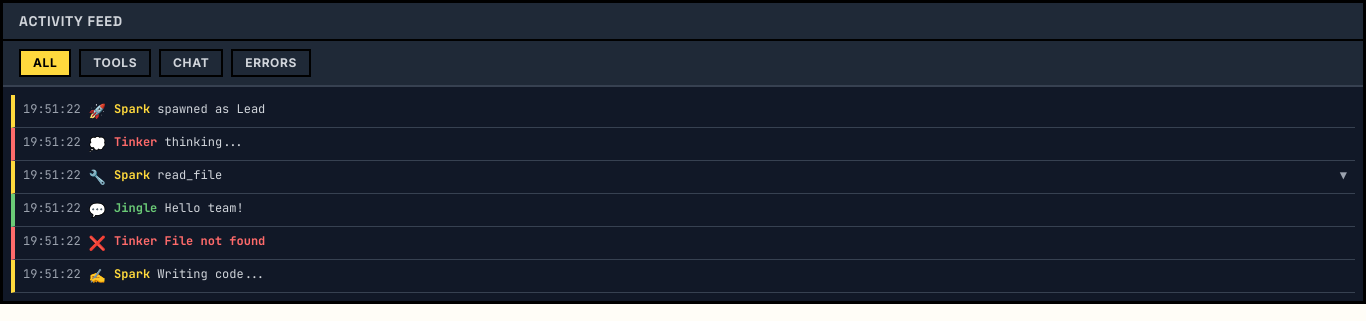
ActivityFeed › filters events when a filter is clicked
Check: the number of elements with test id "event-row" is 6, box [11,95,1355,128]; [11,128,1355,161]; [11,161,1355,194]; [11,194,1355,227]; [11,227,1355,260]; [11,260,1355,293]
Click the button with test id "filter-tools".
click(115, 63)  # box [79,49,151,77]
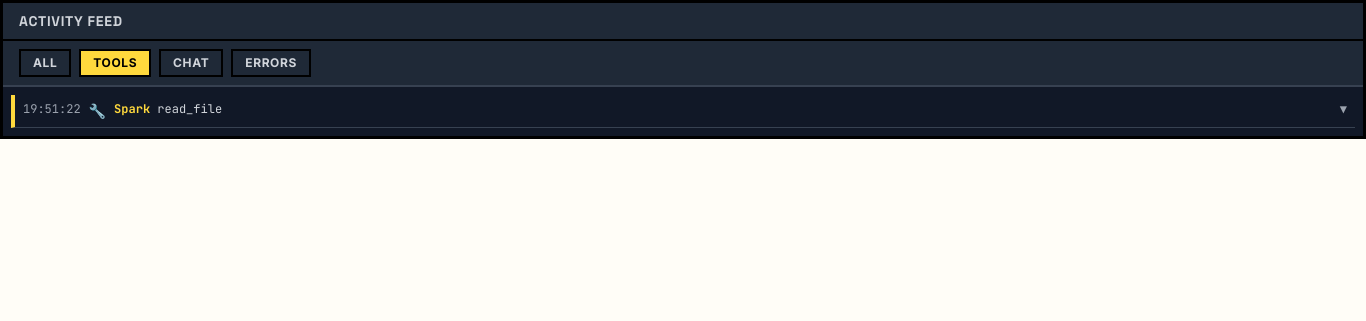
Check: the number of elements with test id "event-row" is 1, box [11,95,1355,128]
Click the button with test id "filter-errors".
click(271, 63)  # box [231,49,311,77]
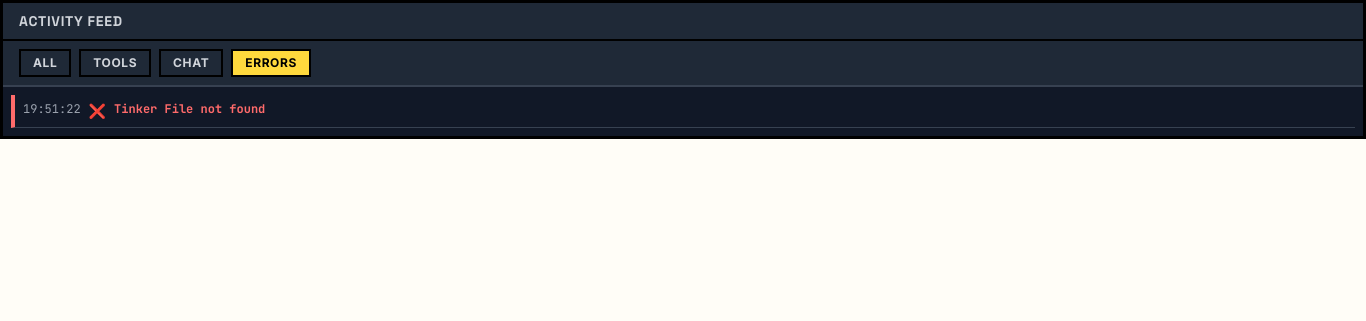
Check: the number of elements with test id "event-row" is 1, box [11,95,1355,128]
Check: the text "File not found" is shown, box [164,101,265,117]
